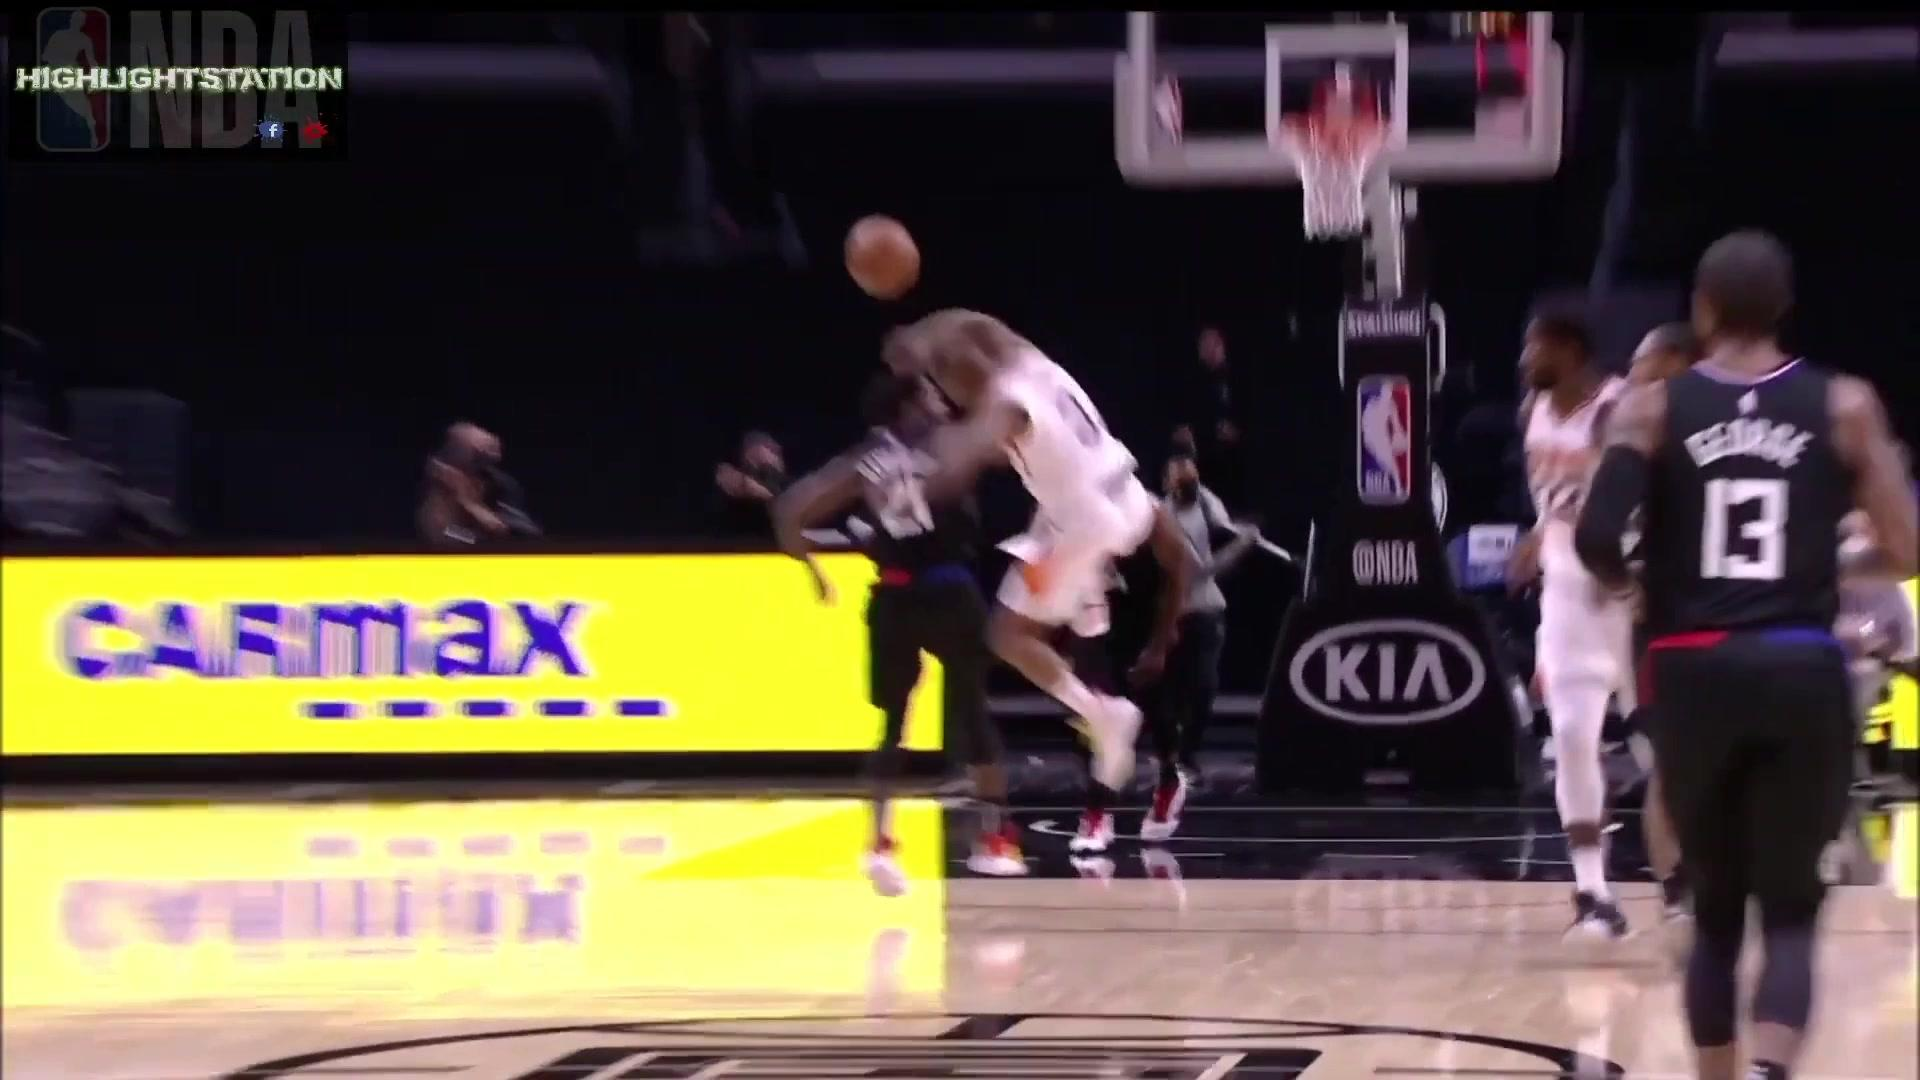foul: (778, 297, 1168, 887)
